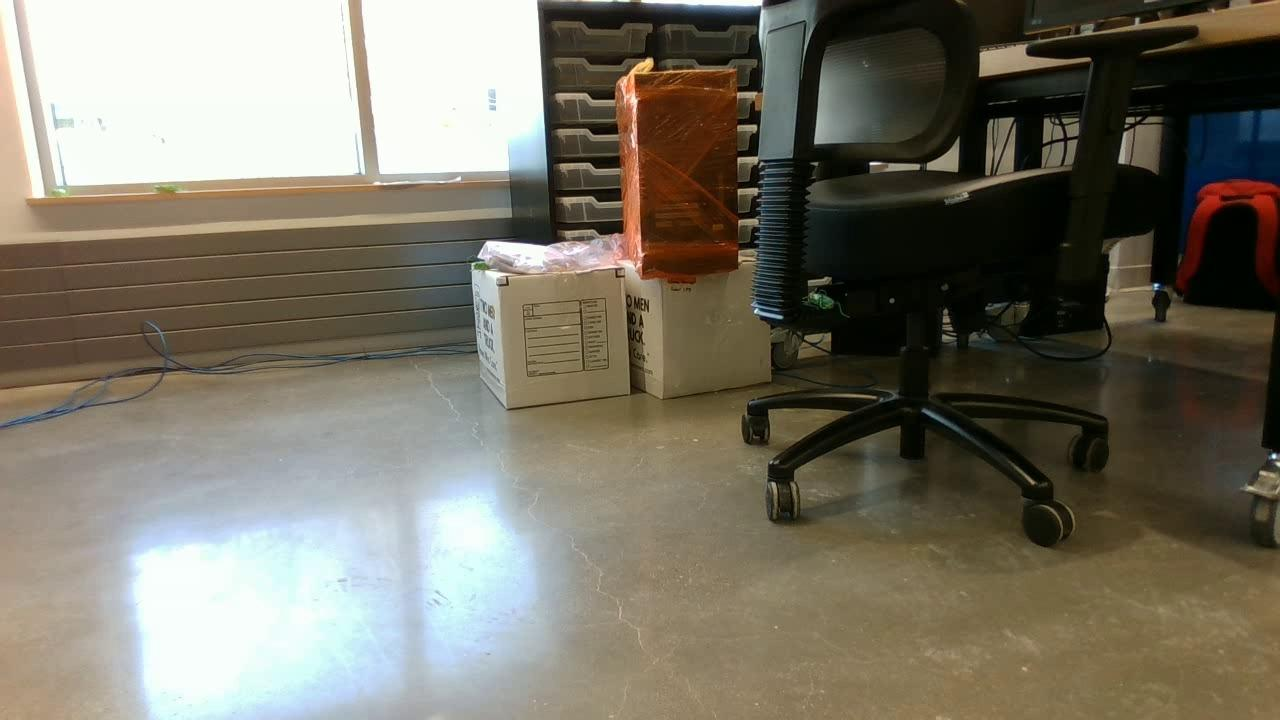grasshopper: (804, 286, 852, 325), (148, 179, 196, 198), (466, 253, 503, 276)
